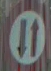Two way: (10, 6, 43, 61)
